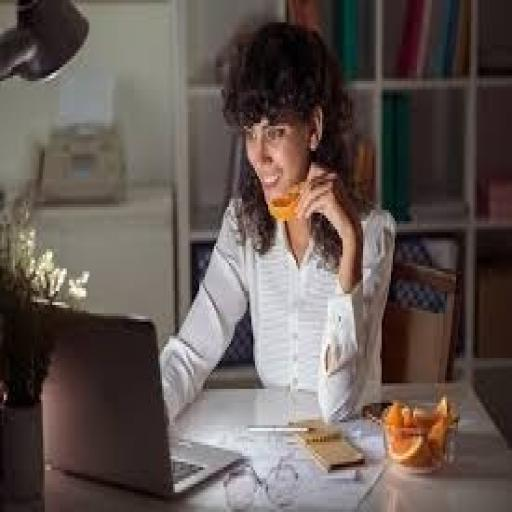sleeping: (156, 20, 398, 425)
